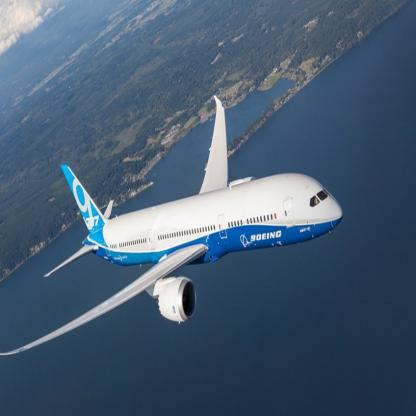CIV_Plane: (3, 90, 345, 367)
